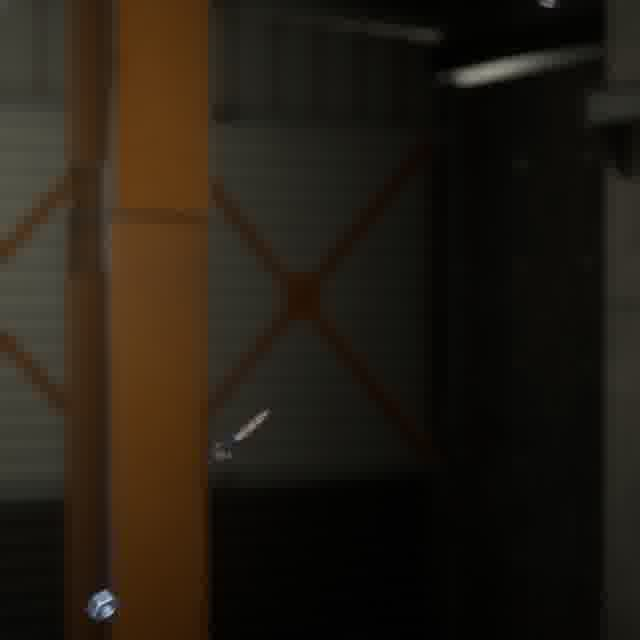bolt: (206, 404, 274, 466)
nut: (81, 584, 125, 626)
